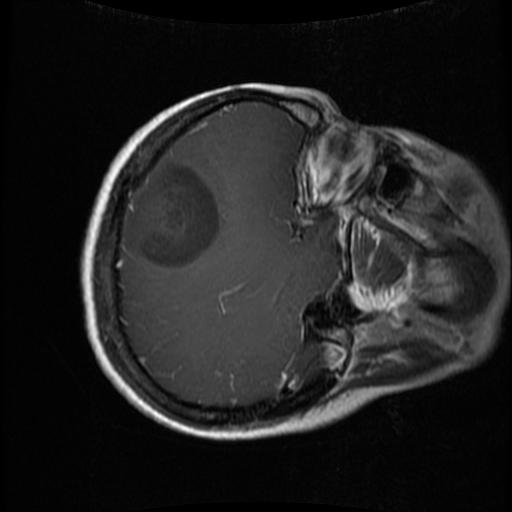glioma: (129, 162, 217, 266)
